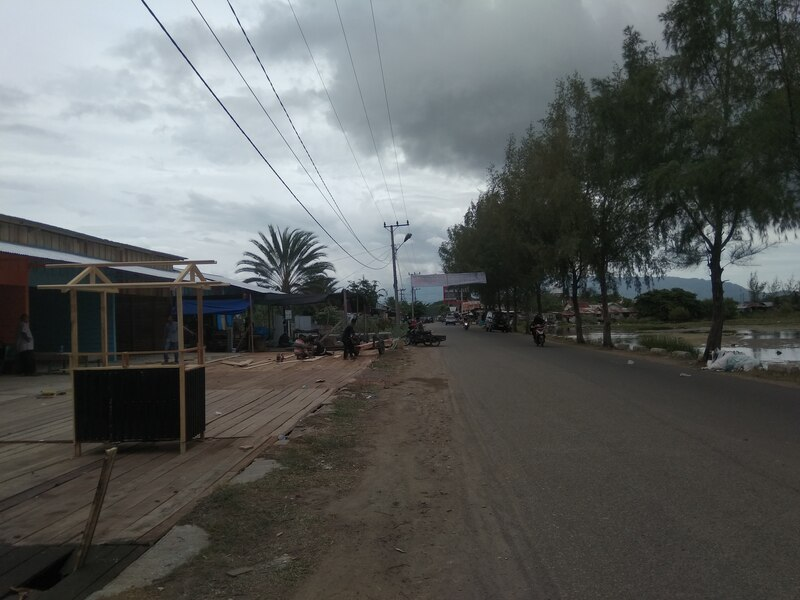becak barang: (343, 330, 389, 362), (400, 325, 448, 351)
